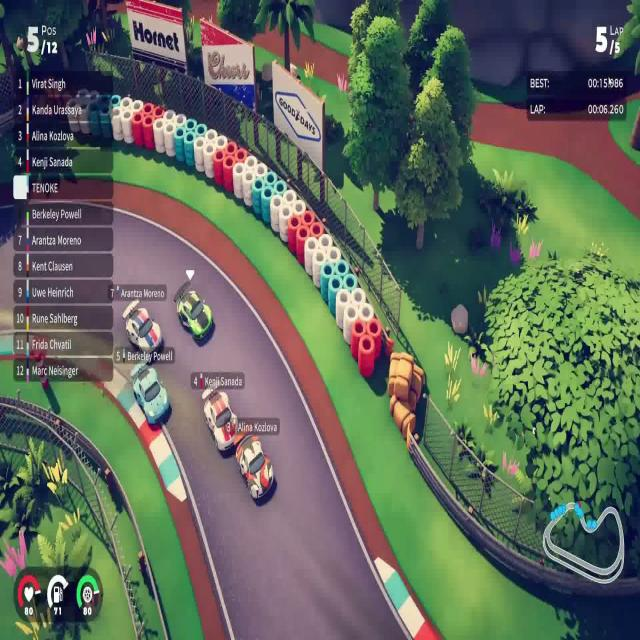car: (130, 360, 170, 428), (235, 433, 274, 501), (201, 386, 239, 453), (176, 288, 213, 342), (125, 306, 162, 356)
